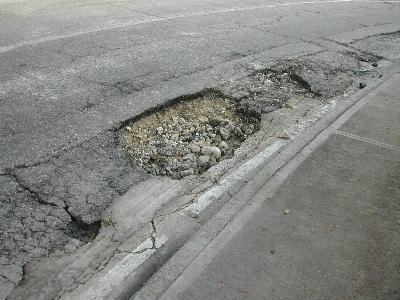pothole: (109, 83, 266, 183), (247, 63, 325, 100), (61, 212, 104, 243), (344, 49, 383, 73), (378, 27, 400, 43)
